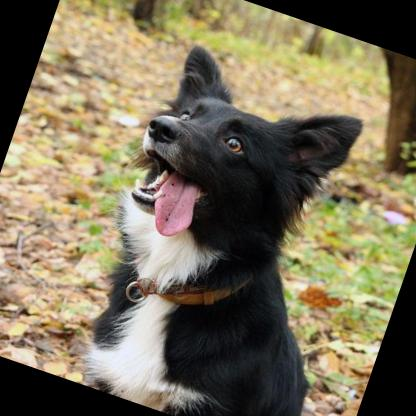Border_collie: (58, 35, 416, 416)
